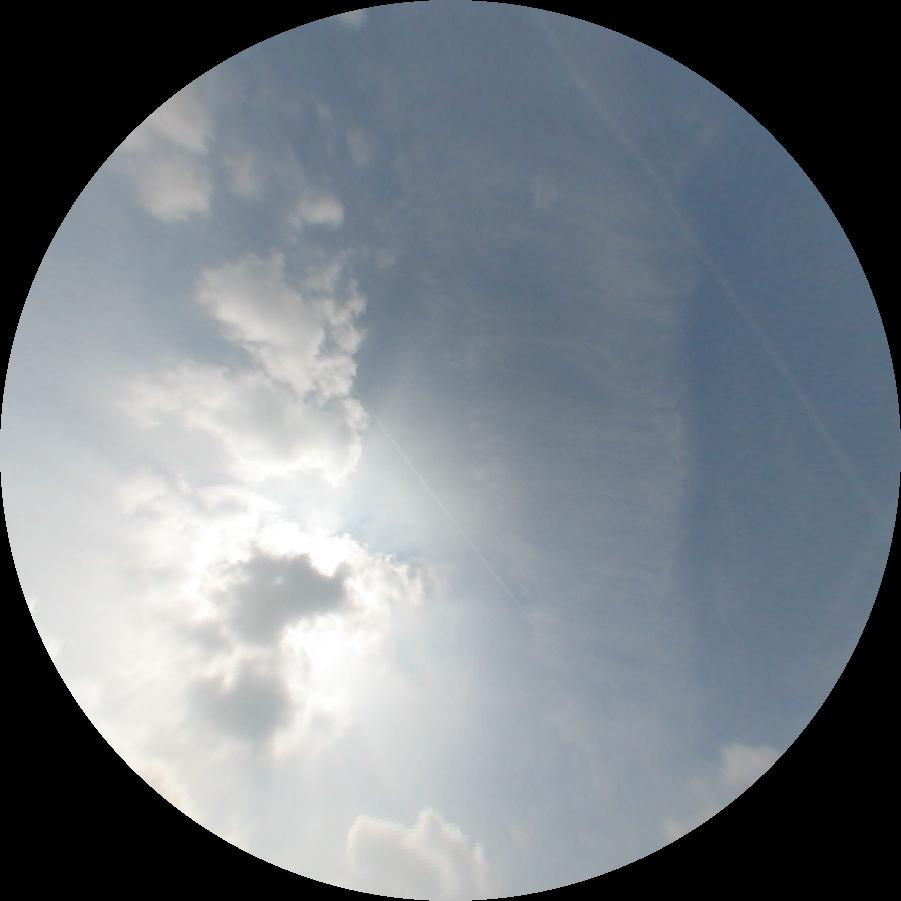contrail old: (524, 7, 889, 532), (353, 384, 558, 653)
sun: (267, 533, 380, 700)
